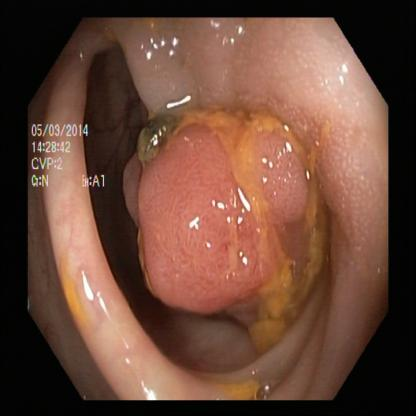Labels: (25, 108, 124, 192)
Polyps: (134, 137, 301, 301)
